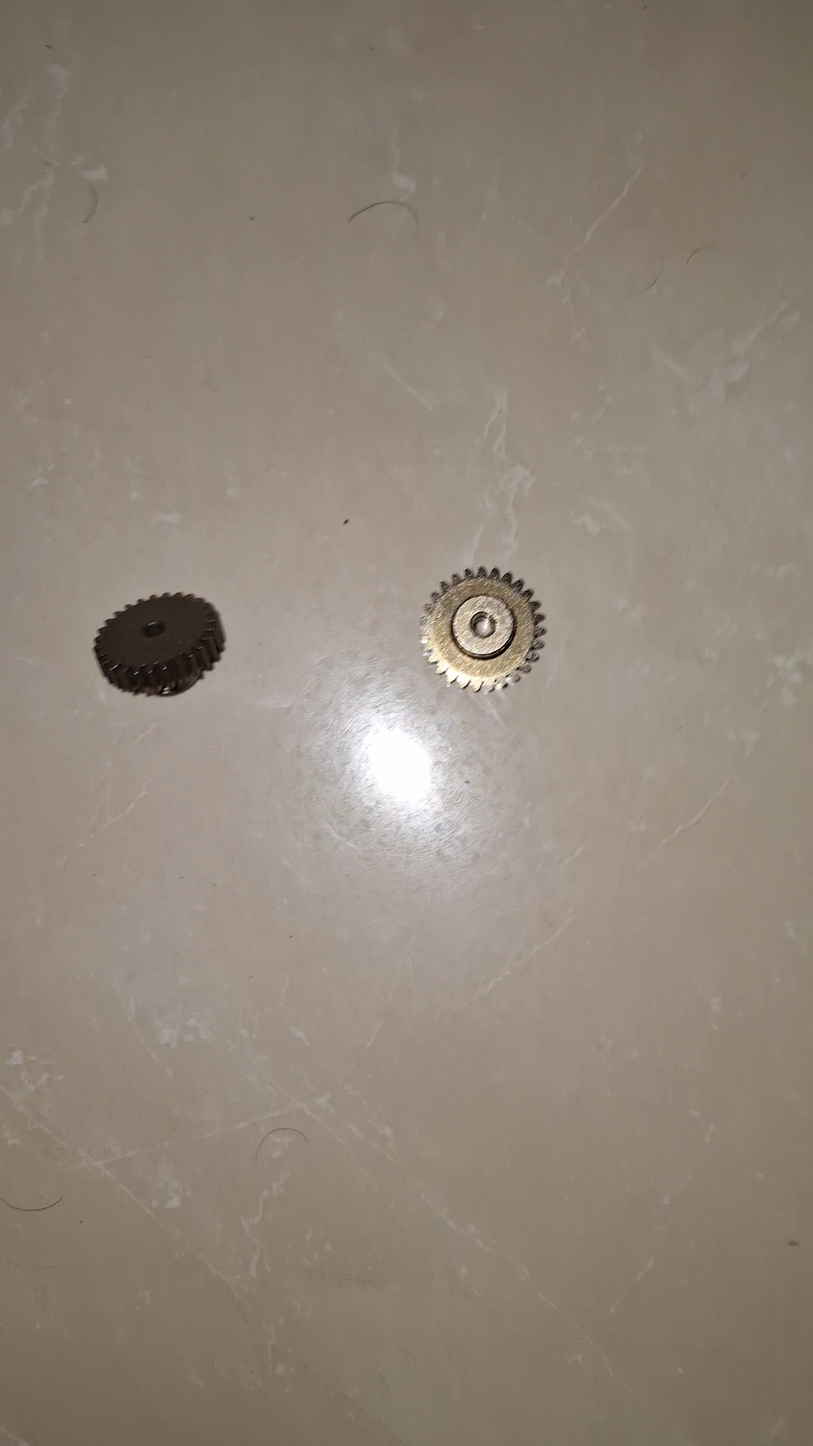spur gear: (421, 567, 545, 691), (94, 593, 225, 695)
